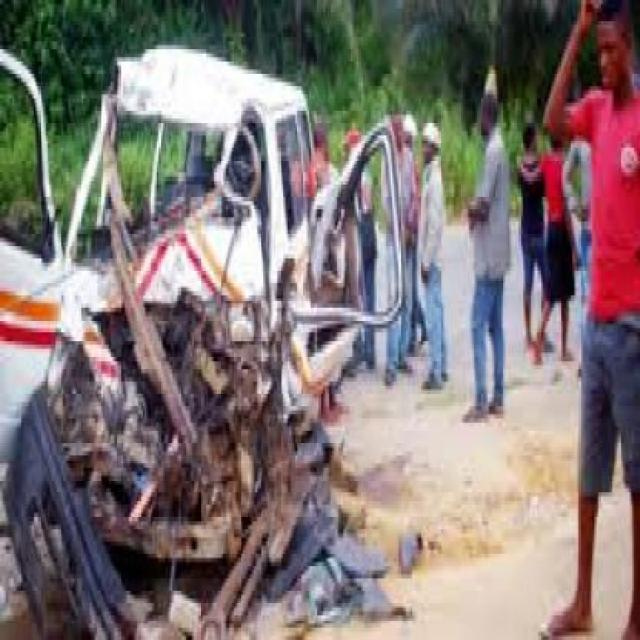accident: (1, 7, 430, 640)
